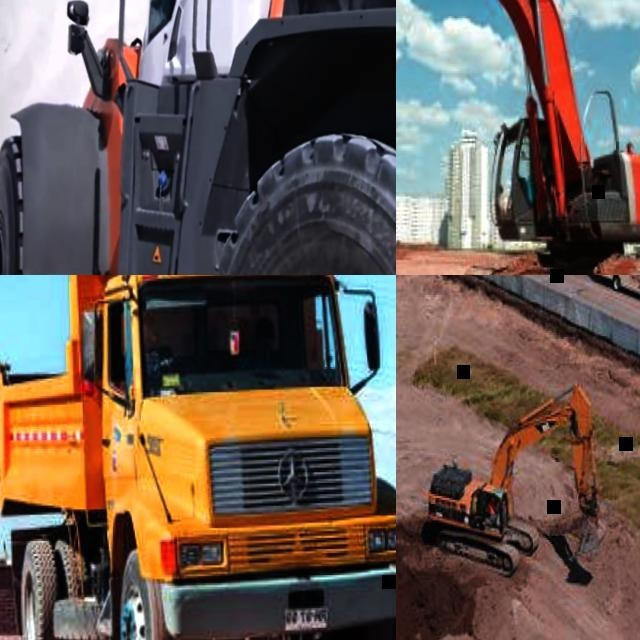NO-Hardhat: (256, 315, 274, 336)
NO-Safety Vest: (244, 347, 279, 368)
Person: (238, 315, 285, 367), (486, 494, 496, 517)
Safety Vest: (486, 502, 496, 516)
machinery: (0, 275, 396, 640), (0, 0, 396, 275), (396, 0, 640, 275), (417, 376, 601, 577)
vehicle: (592, 275, 640, 305)
